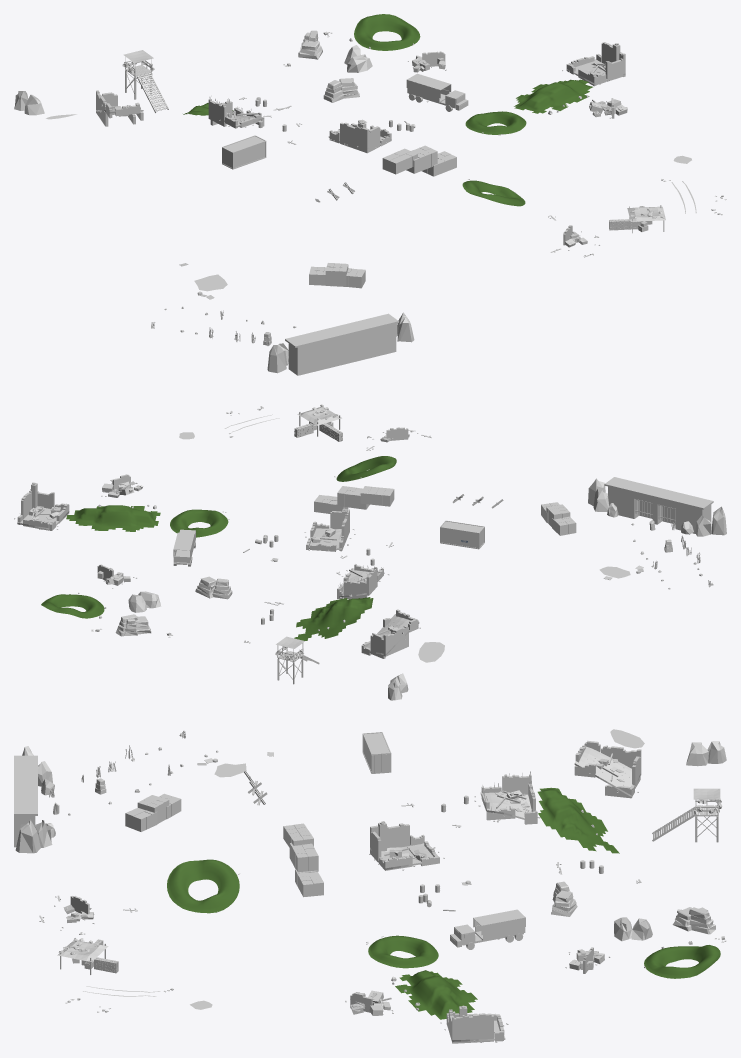
The model's file is outdoor_13.glb.
3 renders of one model, top to bottom at view 1: azimuth 30°, elevation 25°; view 2: azimuth 150°, elevation 25°; view 3: azimuth 270°, elevation 25°, orthographic. The views are drawn at different scales.
Parts seen in each view (by area): view 1: gas_station_town; view 2: gas_station_town; view 3: gas_station_town.
Boxes of the visible parts, <box> form: gas_station_town: <box>14,14,726,375</box>; gas_station_town: <box>14,404,726,700</box>; gas_station_town: <box>14,729,726,1043</box>.
Size of the model in its own units: 96.37 by 14.26 by 86.42.
3 materials, 2 textured.
